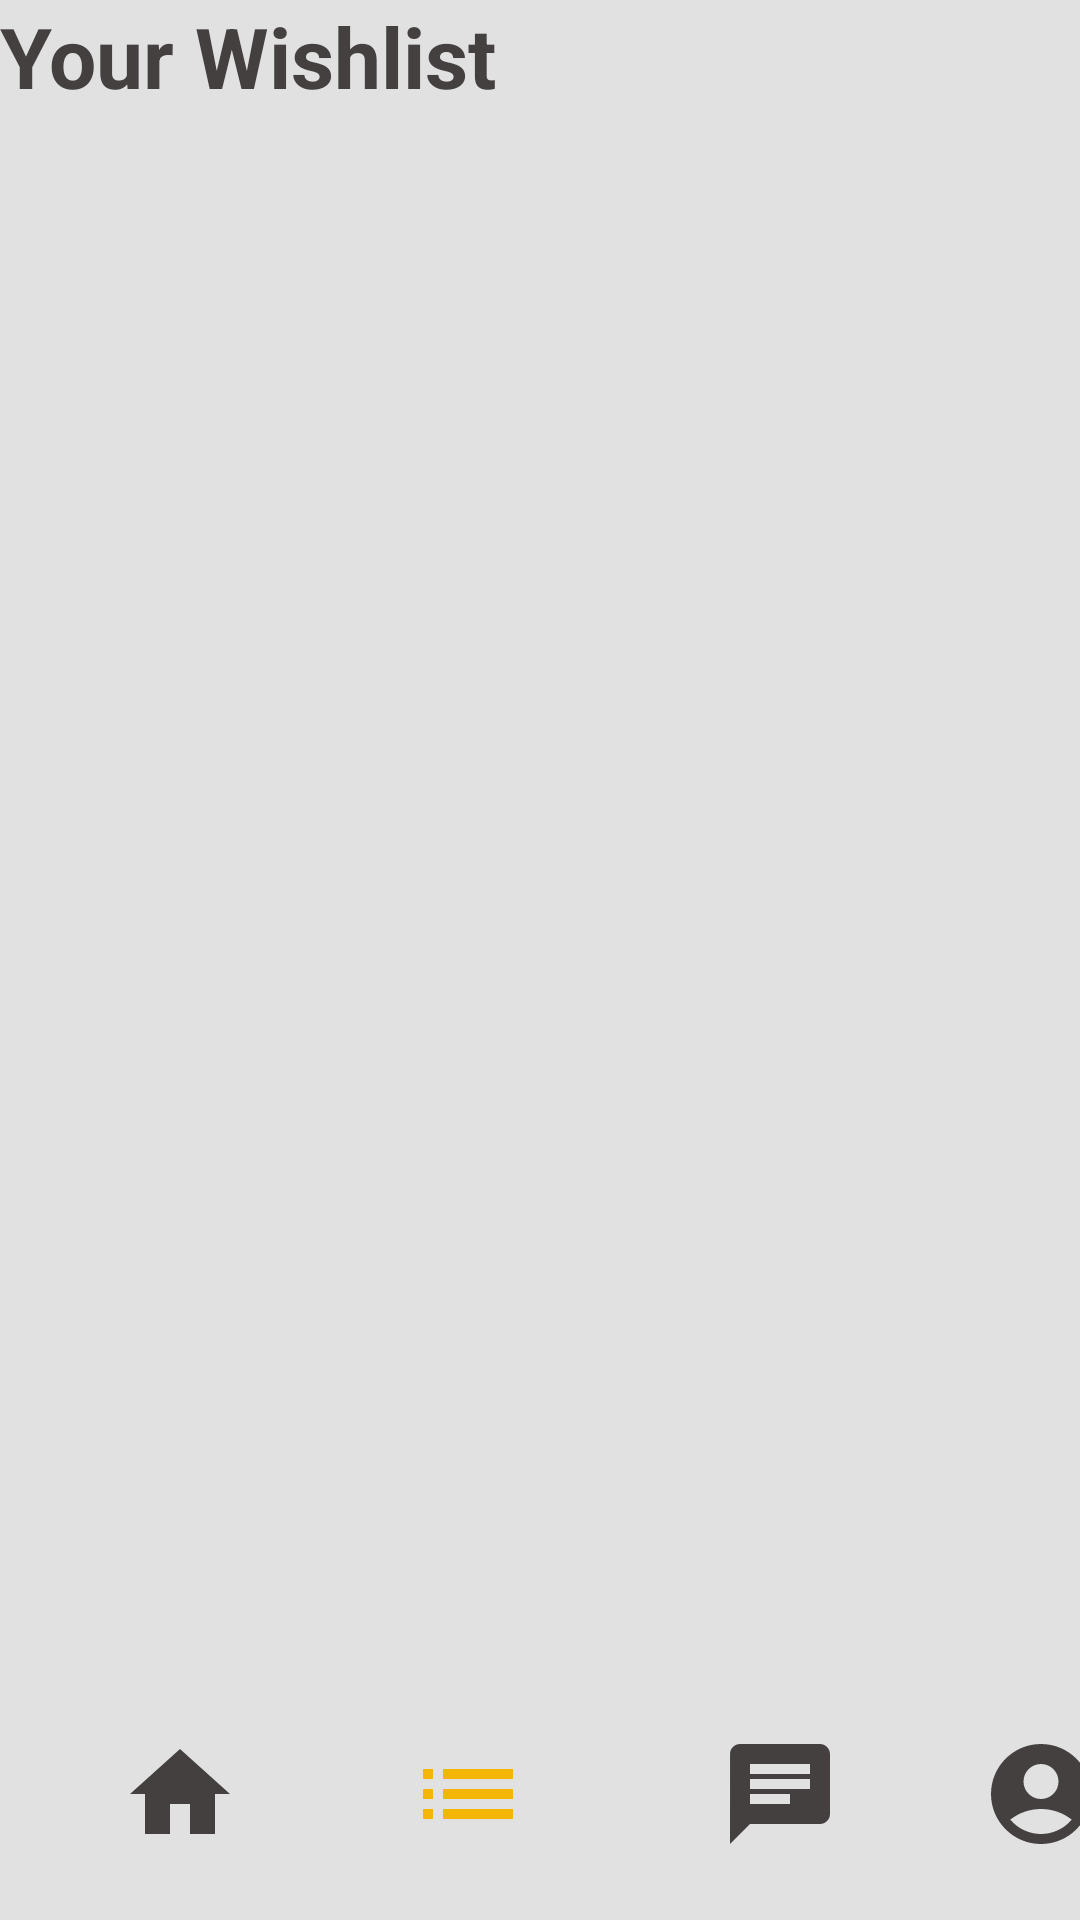

Locate icon controls on the screen. Image size 1080×1920, boxes as region(x1, y1, x2, y2).
chat: region(730, 1744, 830, 1844)
homeb: region(130, 1749, 230, 1834)
listy: region(423, 1769, 513, 1819)
